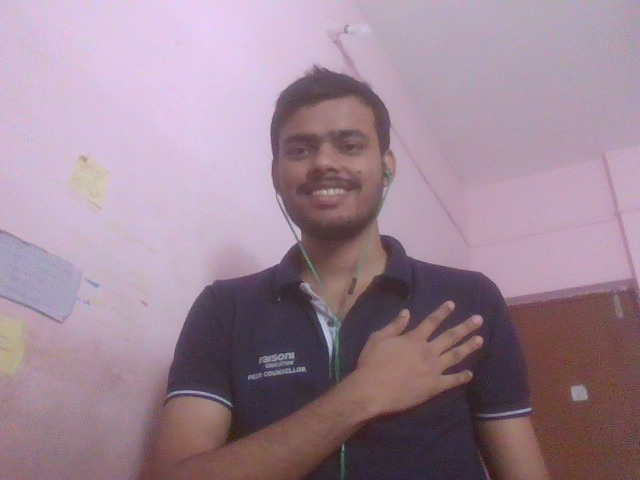Please: (274, 281, 522, 457)
